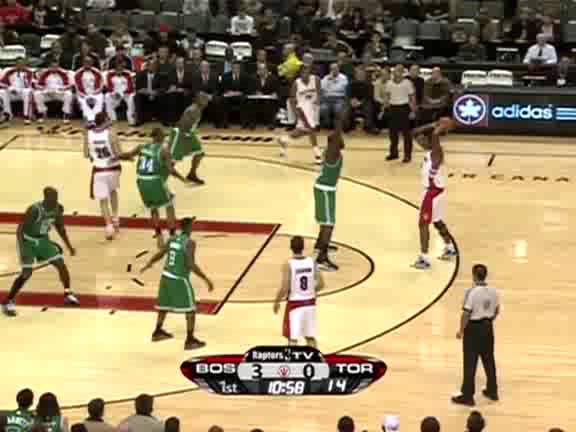person: (159, 236, 193, 317), (158, 236, 192, 317), (160, 236, 194, 317), (159, 235, 193, 316), (159, 237, 193, 318)
target_negative: (3, 70, 562, 406), (82, 111, 104, 388), (540, 239, 556, 343), (219, 401, 257, 427), (285, 395, 345, 401), (575, 87, 576, 226)
